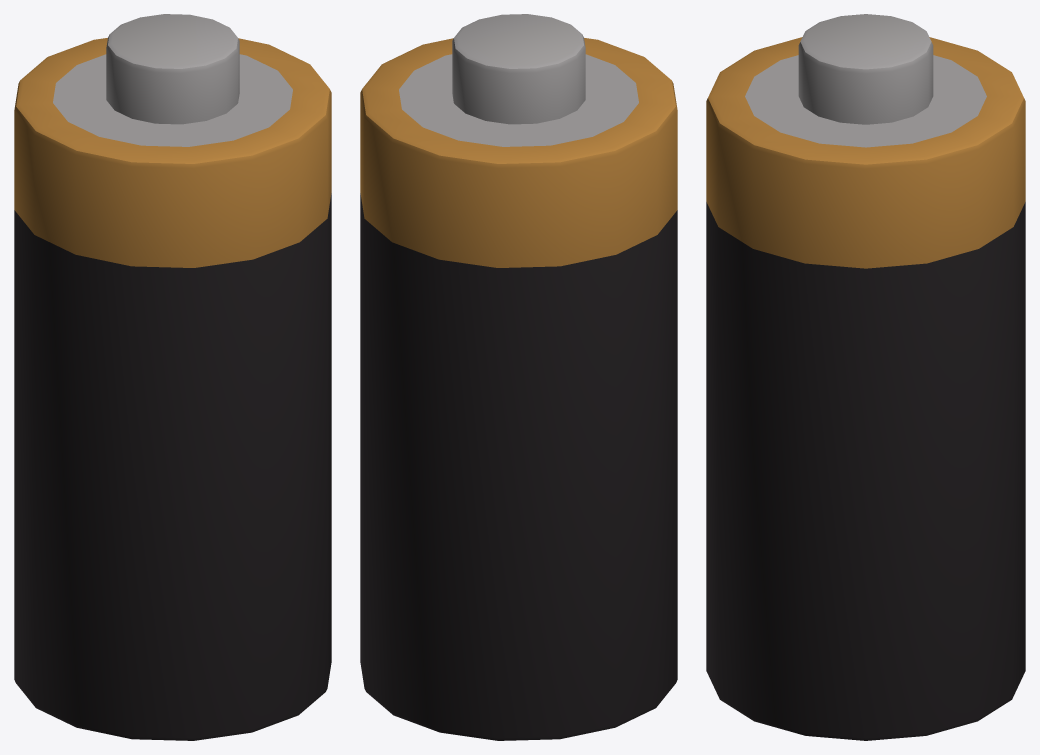
File: bateria.fbx
The picture shows the model from 3 angles, left to right: view 1: azimuth 30°, elevation 25°; view 2: azimuth 150°, elevation 25°; view 3: azimuth 270°, elevation 25°; orthographic projection.
Parts seen in each view (by area): view 1: Cylinder; view 2: Cylinder; view 3: Cylinder.
Boxes of the visible parts, x1,y1,x2,y2 form: Cylinder: [14, 14, 331, 740]; Cylinder: [360, 14, 677, 740]; Cylinder: [706, 14, 1025, 740].
Size of the model in its own units: 2.36 by 5.18 by 2.36.
